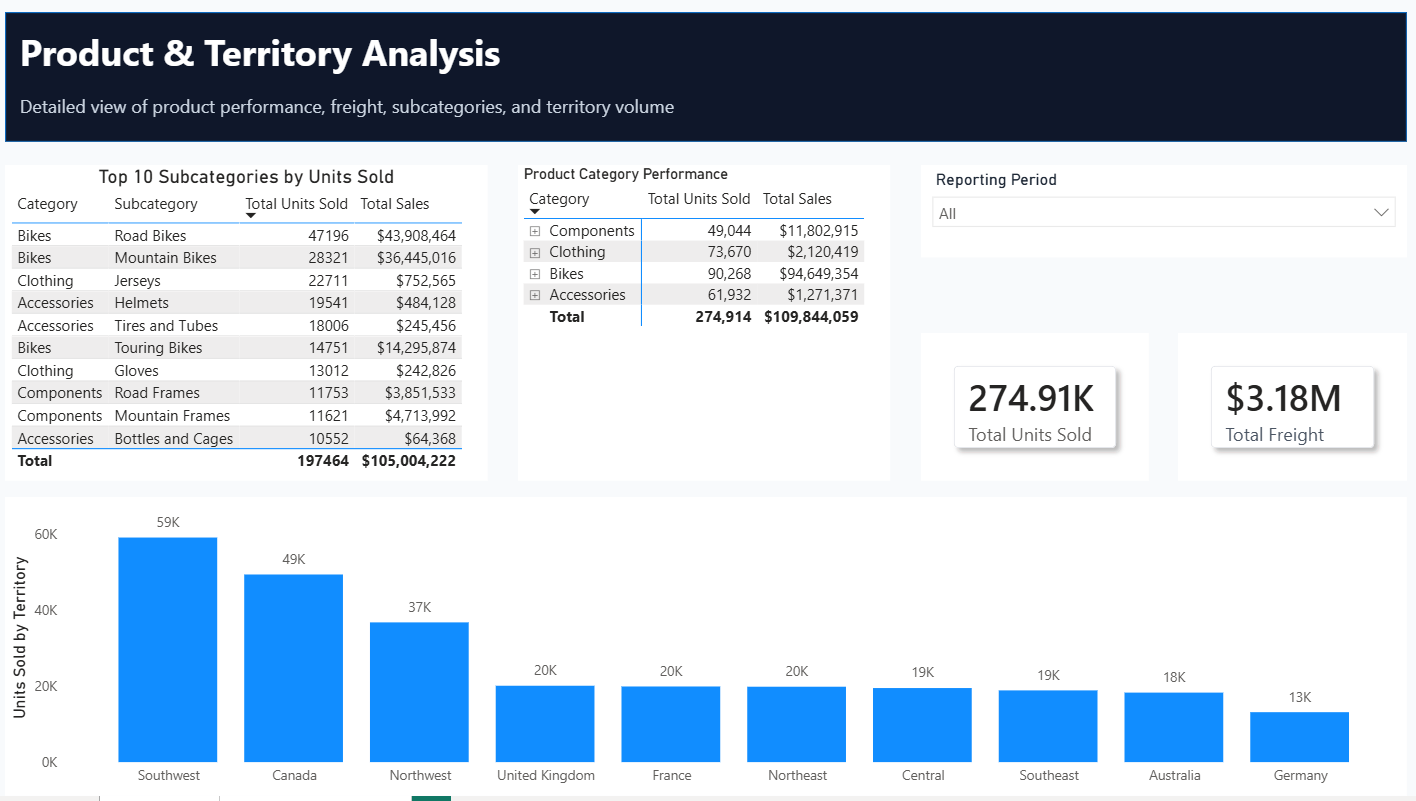

The dashboard page shown, as its layout file describes it:
{"tool":"powerbi","page":{"name":"Product & Territory Analysis","canvas":[1280,720],"ordinal":1},"visuals":[{"type":"cardVisual","fields":{"Data":["DimProduct.Total Freight"]},"box":[1051.6,309.5,203.1,131.2],"z":0},{"type":"cardVisual","fields":{"Data":["DimProduct.Total Units Sold"]},"box":[823.7,309.5,202.2,131.2],"z":1000},{"type":"pivotTable","title":"\tProduct Category Performance","fields":{"Rows":["DimProduct.CategoryName","DimProduct.SubcategoryName"],"Values":["DimProduct.Total Units Sold","Sales SalesOrderHeader.Total Sales"]},"box":[466.4,160.5,329.9,280.2],"z":2000},{"type":"columnChart","fields":{"Category":["Sales SalesTerritory.Name"],"Y":["DimProduct.Total Units Sold"]},"box":[11.6,454.9,1243,265.1],"z":3000},{"type":"tableEx","title":"\tTop 10 Subcategories by Units Sold","fields":{"Values":["DimProduct.CategoryName","DimProduct.SubcategoryName","DimProduct.Total Units Sold","Sales SalesOrderHeader.Total Sales"]},"box":[11.6,160.3,428.1,280.3],"z":4000},{"type":"slicer","fields":{"Values":["DimDate.AñoMes"]},"box":[823.7,160.5,430.9,82.5],"z":5000},{"type":"shape","box":[11.5,24.8,1243.2,115.3],"z":6000},{"type":"textbox","box":[19.5,32.8,893.8,98.4],"z":7000}]}

Visuals, with their boxes in screenshot pixels (x1, y1, x2, y2), scaled from the page's 1280x720 canvas onto the 1416x801 screenshot:
cardVisual - DimProduct.Total Freight: l=1163, t=344, r=1388, b=490
cardVisual - DimProduct.Total Units Sold: l=911, t=344, r=1135, b=490
"	Product Category Performance" pivotTable: l=516, t=179, r=881, b=490
columnChart - Sales SalesTerritory.Name x DimProduct.Total Units Sold: l=13, t=506, r=1388, b=800
"	Top 10 Subcategories by Units Sold" tableEx: l=13, t=178, r=486, b=490
slicer - DimDate.AñoMes: l=911, t=179, r=1388, b=270
shape: l=13, t=28, r=1388, b=156
textbox: l=22, t=36, r=1010, b=146
